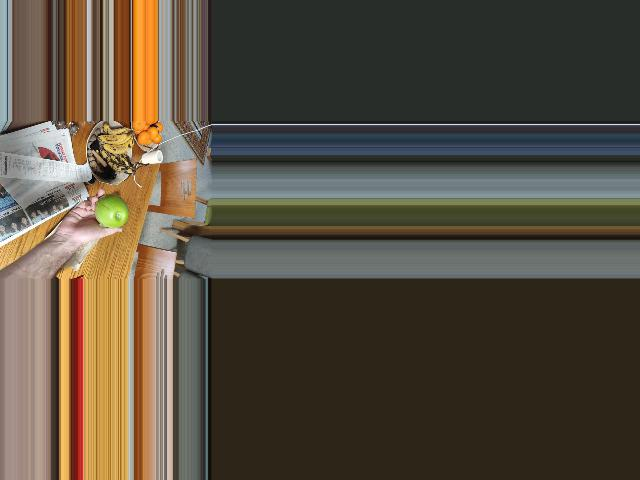apple: (95, 193, 131, 229)
